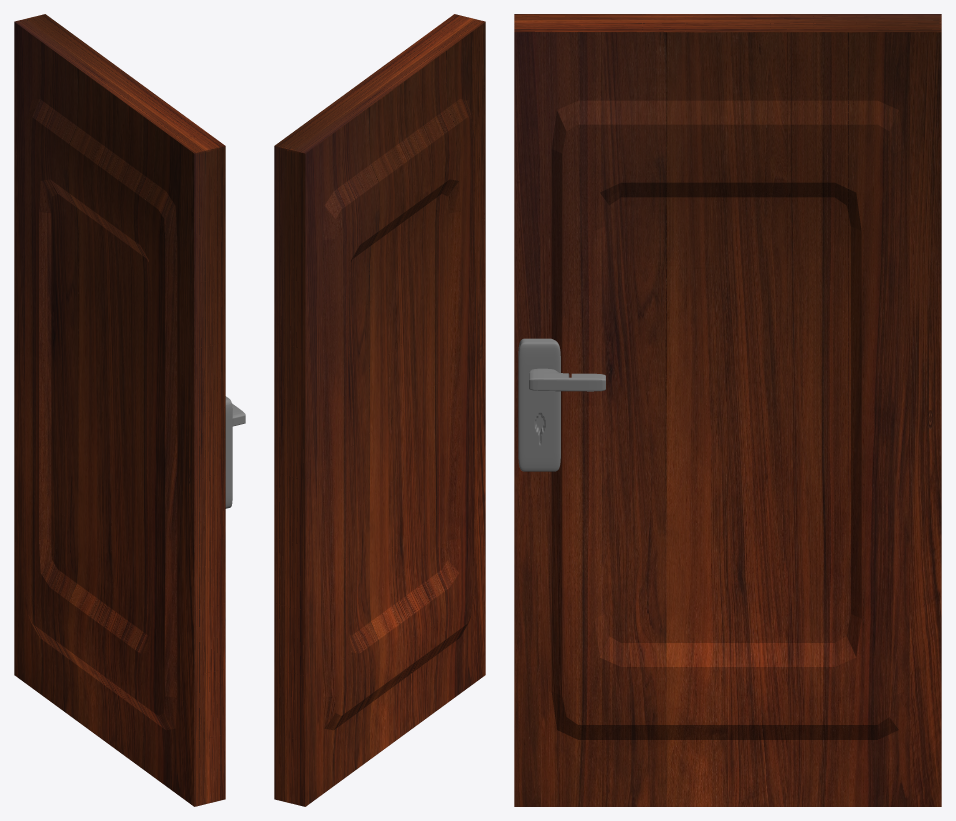
The model's file is RightDoor.FBX.
3 views of the same model, side by side, from view 1: azimuth 30°, elevation 25°; view 2: azimuth 150°, elevation 25°; view 3: azimuth 270°, elevation 25° (orthographic). The views are drawn at different scales.
Visible parts, largest first — view 1: Box002, Box005; view 2: Box002; view 3: Box002, Box005, Box008.
Boxes of the visible parts, bbox=[...] form: Box002: bbox=[14, 14, 225, 806]; Box005: bbox=[225, 396, 232, 508]; Box002: bbox=[274, 14, 485, 806]; Box002: bbox=[514, 14, 941, 806]; Box005: bbox=[518, 338, 560, 471]; Box008: bbox=[529, 368, 605, 391].
Bounding box in the file's own units: 1.33 × 12 × 6.
